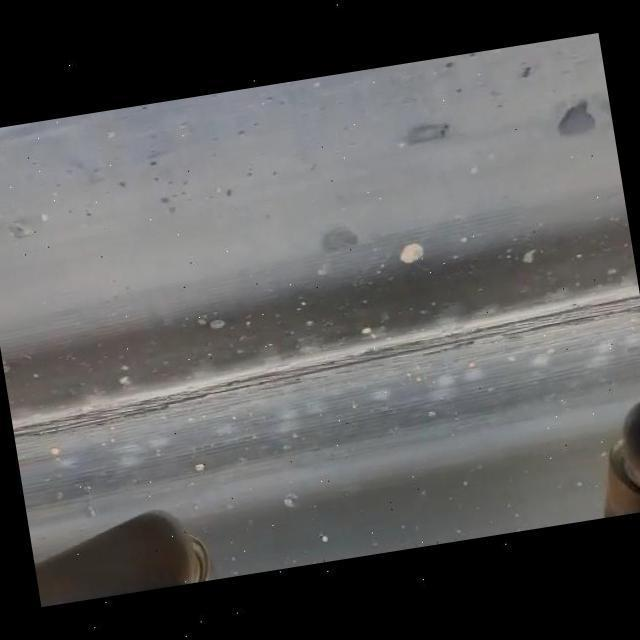Wear: (6, 288, 640, 450)
